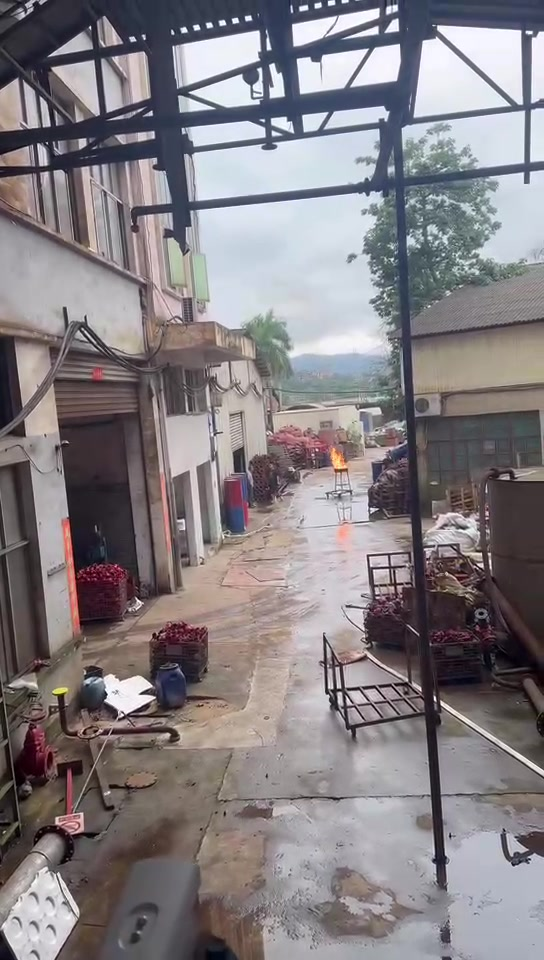fire: (330, 447, 347, 469)
